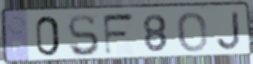0: (34, 15, 62, 59)
8: (142, 13, 170, 53)
F: (101, 11, 137, 58)
J: (215, 10, 243, 52)
O: (175, 11, 209, 54)
S: (66, 13, 102, 59)
